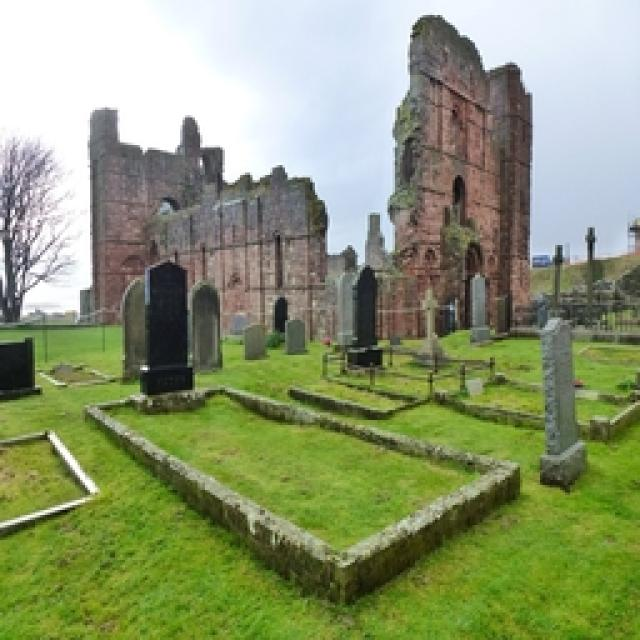Abbey: (81, 50, 537, 350)
